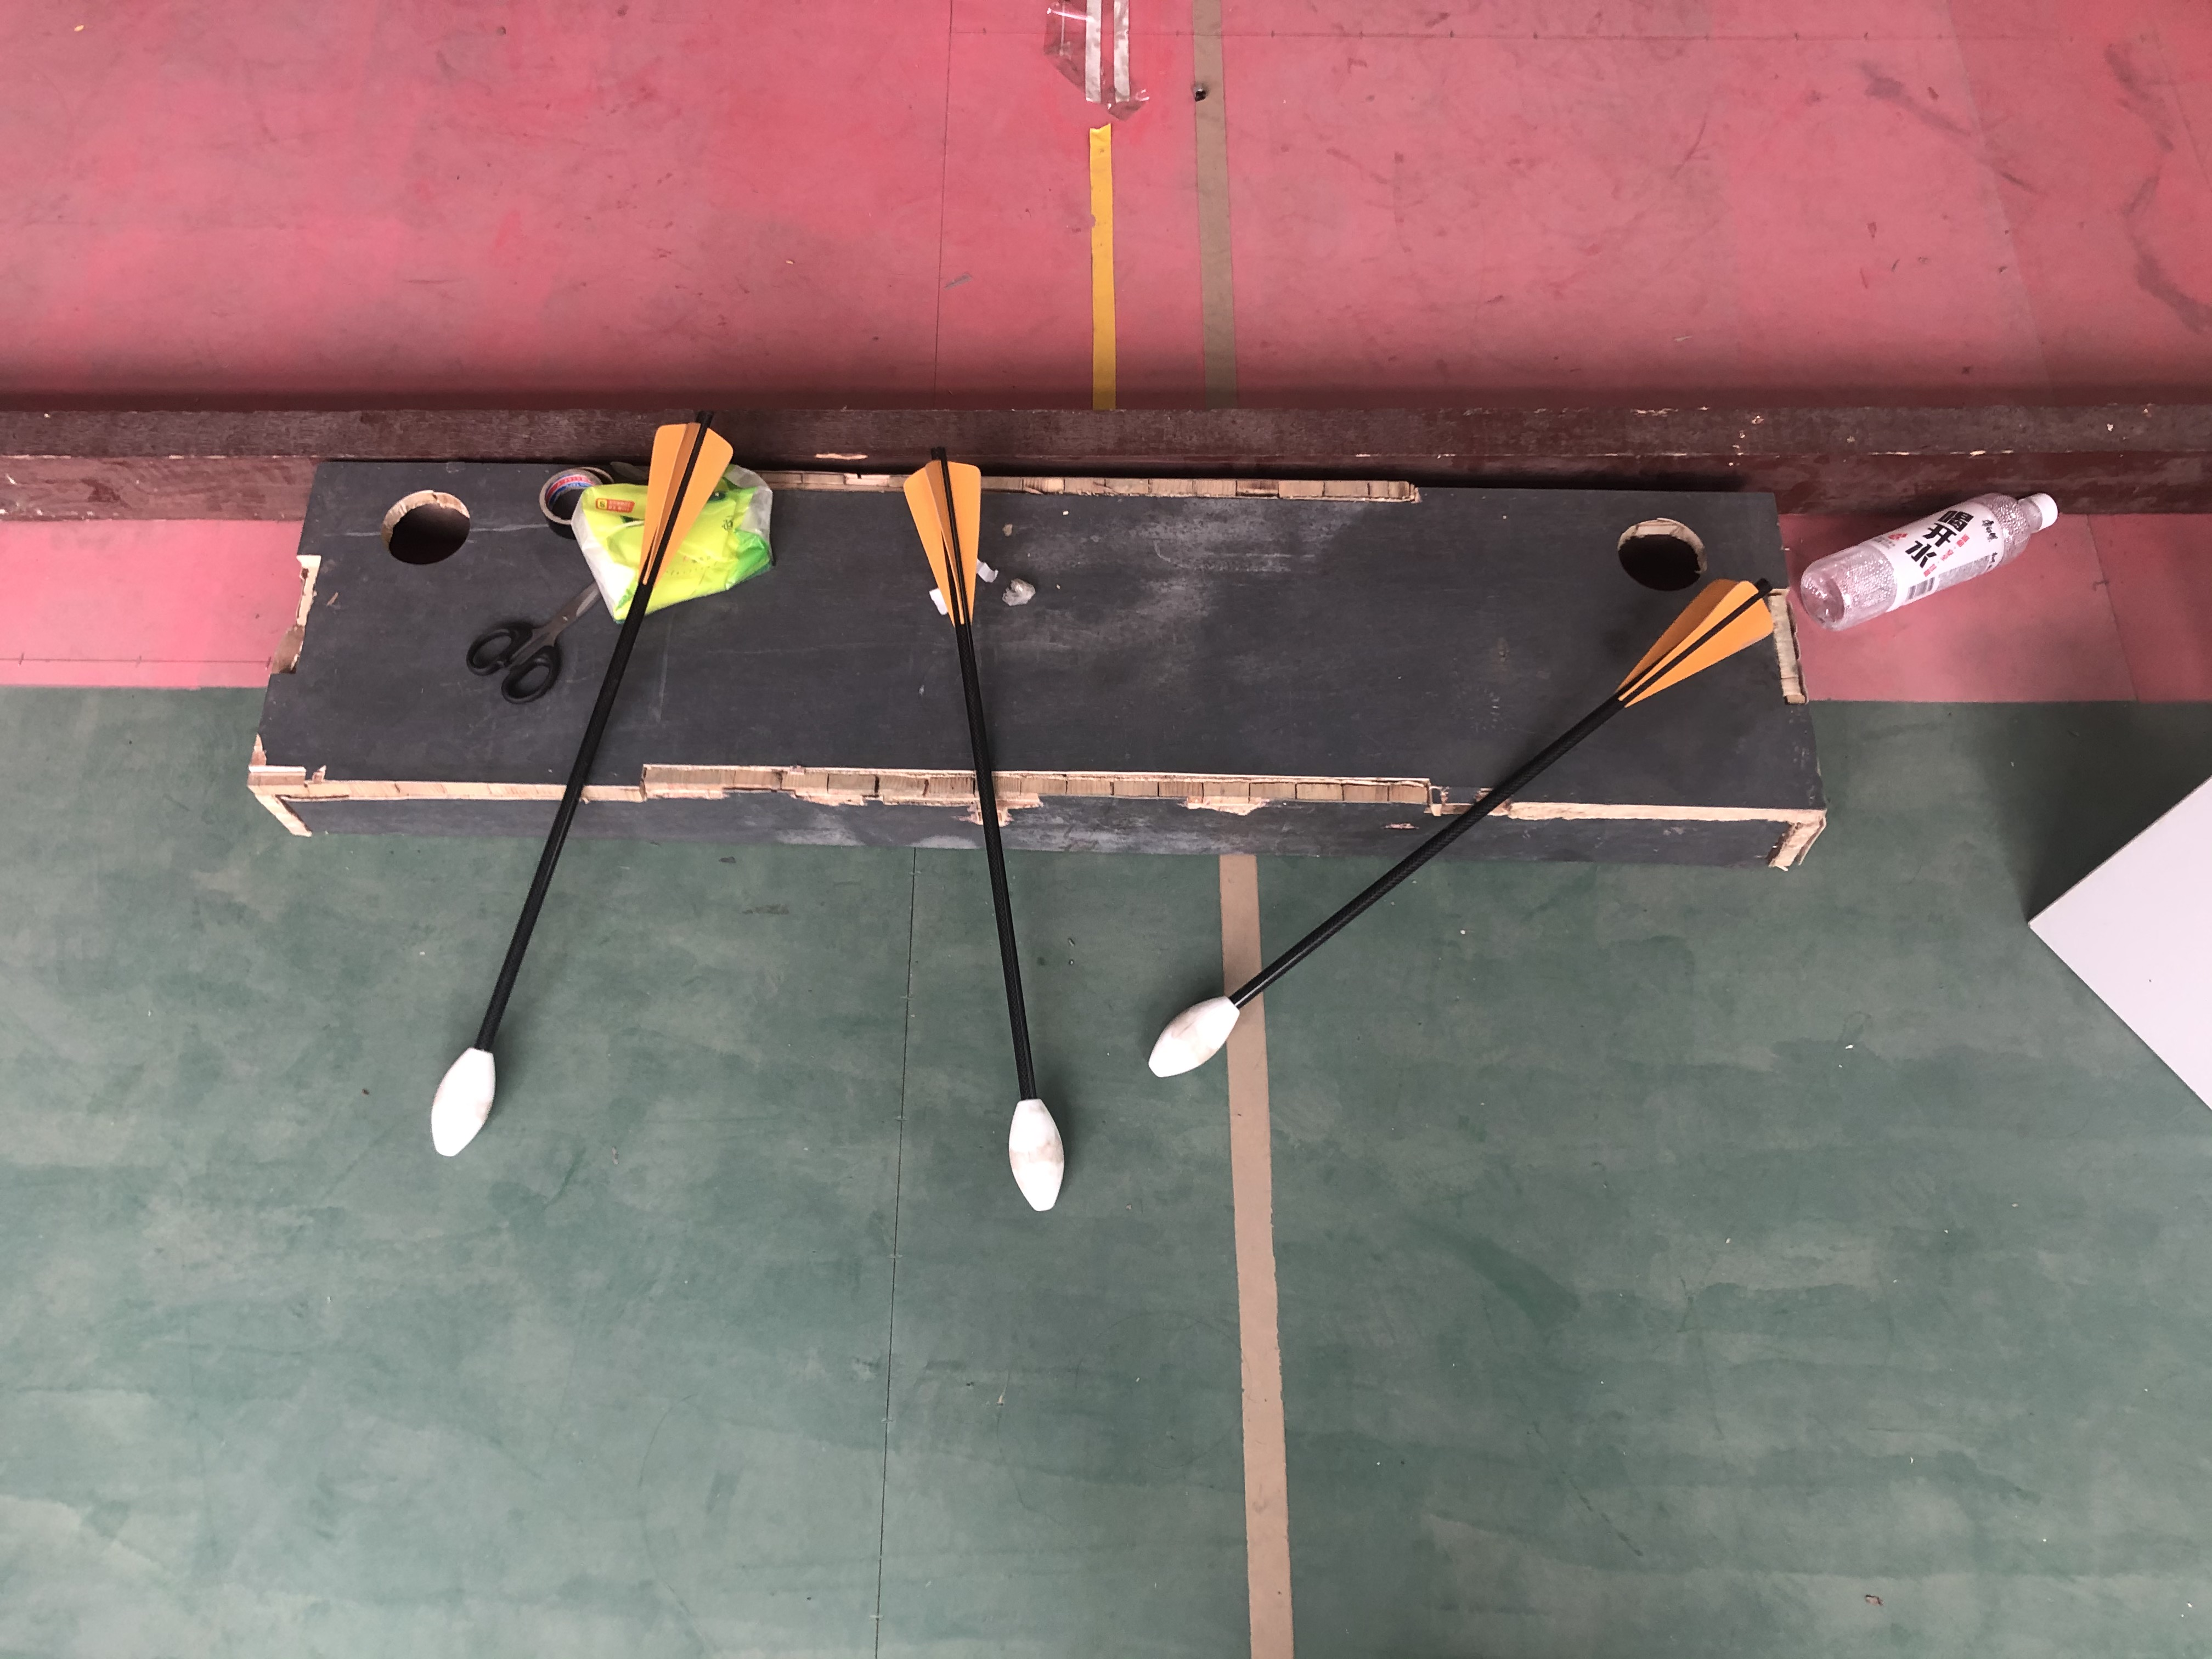arrow: (1148, 580, 1775, 1077), (427, 404, 737, 1159), (897, 444, 1068, 1215)
arrowFront: (427, 1040, 500, 1155), (1151, 999, 1240, 1079), (1010, 1094, 1068, 1215)
